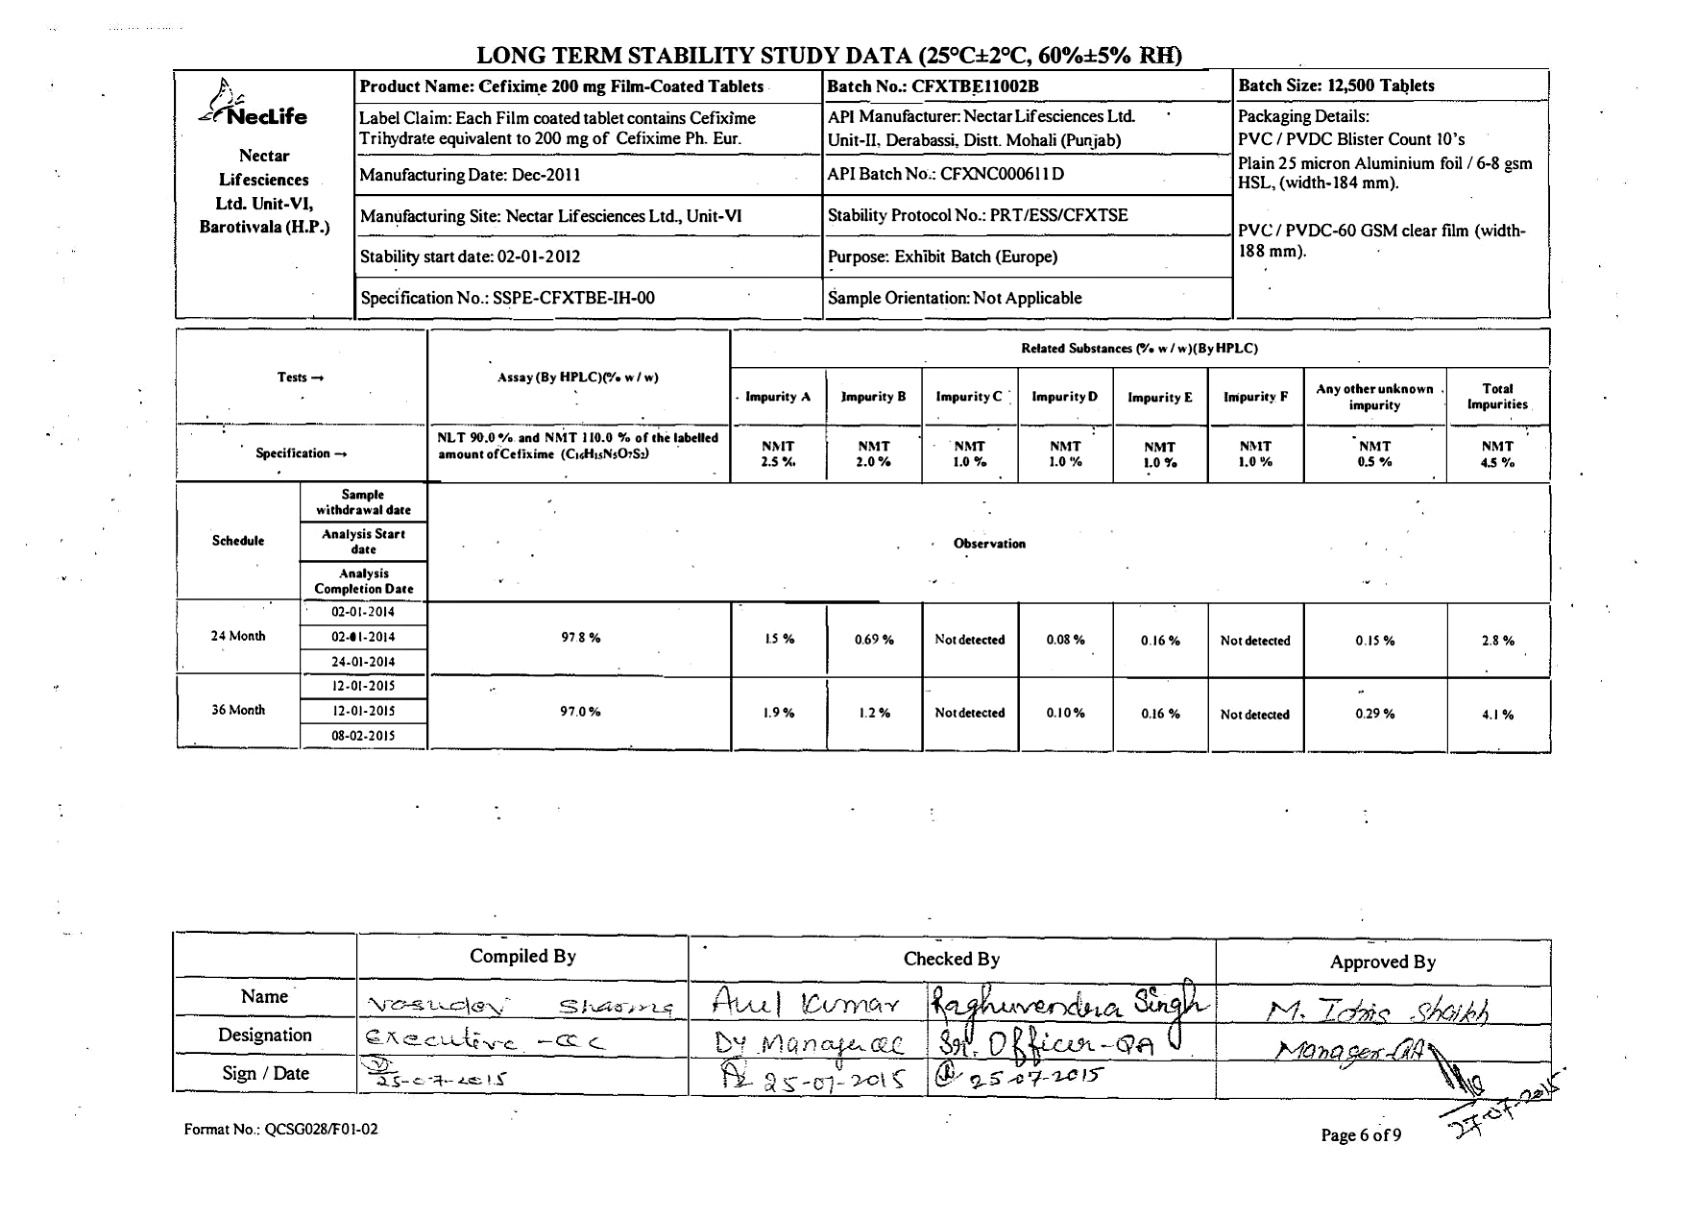full_lined: (171, 926, 1553, 1102)
merged_cells: (174, 327, 1553, 755), (173, 67, 1553, 322)
